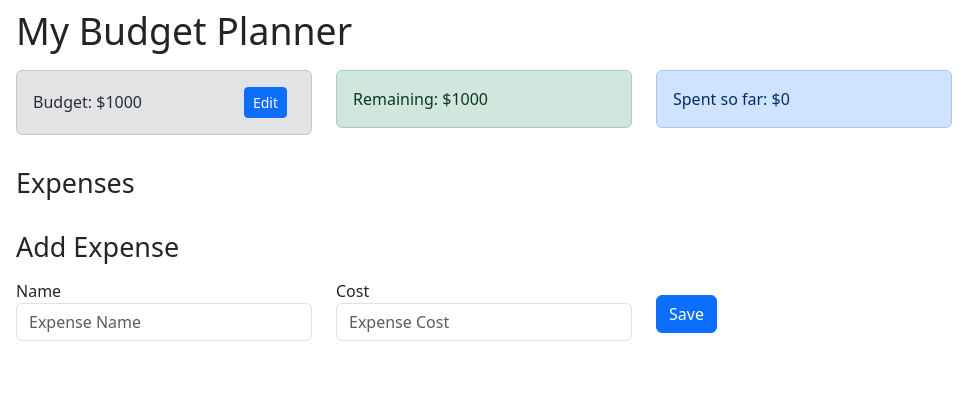
Negative remaining
Type "Rent" into the field with placeholder "Expense Name" at (164, 322), box [16,304,312,342]
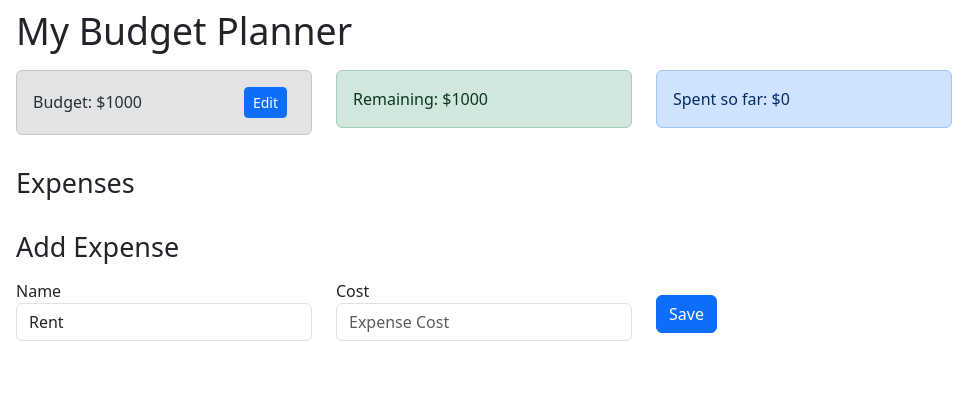
Type "1500" into the field with placeholder "Expense Cost" at (484, 322), box [336,304,632,342]
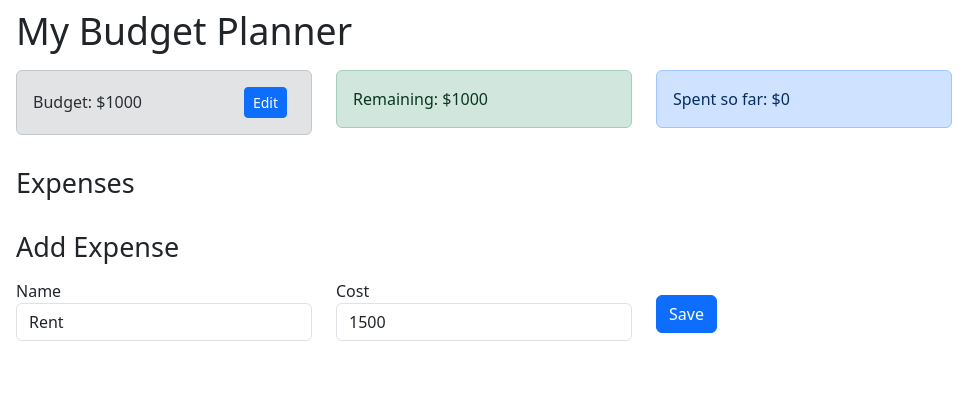
Click the button "Save" at (686, 314), box [656,296,717,334]
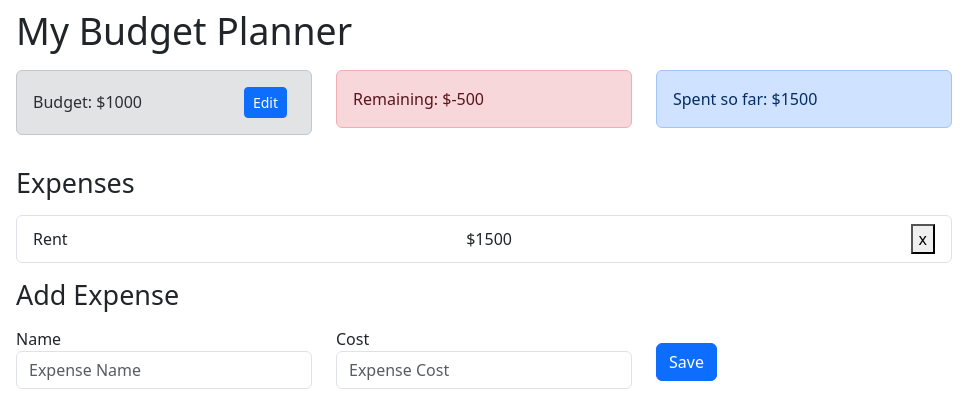
Result: the text with test id "remaining" shows "-500" at [451,88,484,110]
Result: the text with test id "spent" shows "1500" at [781,88,817,110]
